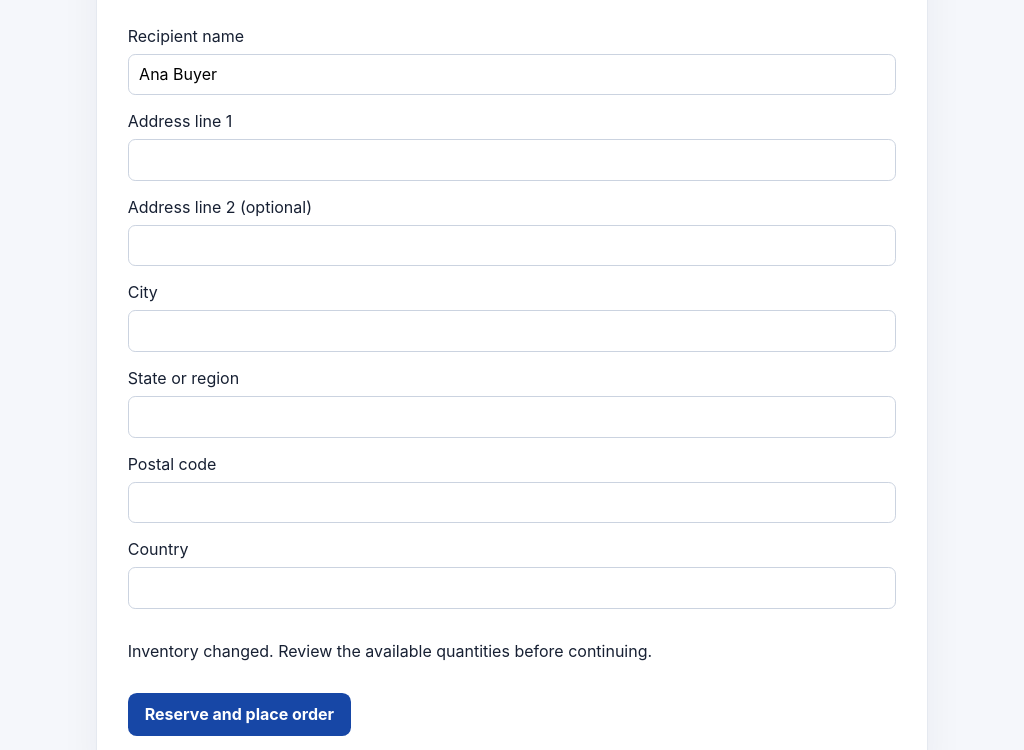
Scenario: checkout › revalidates the cart on entry, prefills the name and validates the address
(page scrolled)
Expected: the text "Inventory changed. Review the available quantities before continuing." is shown, [128,641,652,661]
Expected: the field showing "Ana Buyer" is shown, [128,54,896,95]
Click the button "Reserve and place order" at (239, 714), box [128,693,351,736]
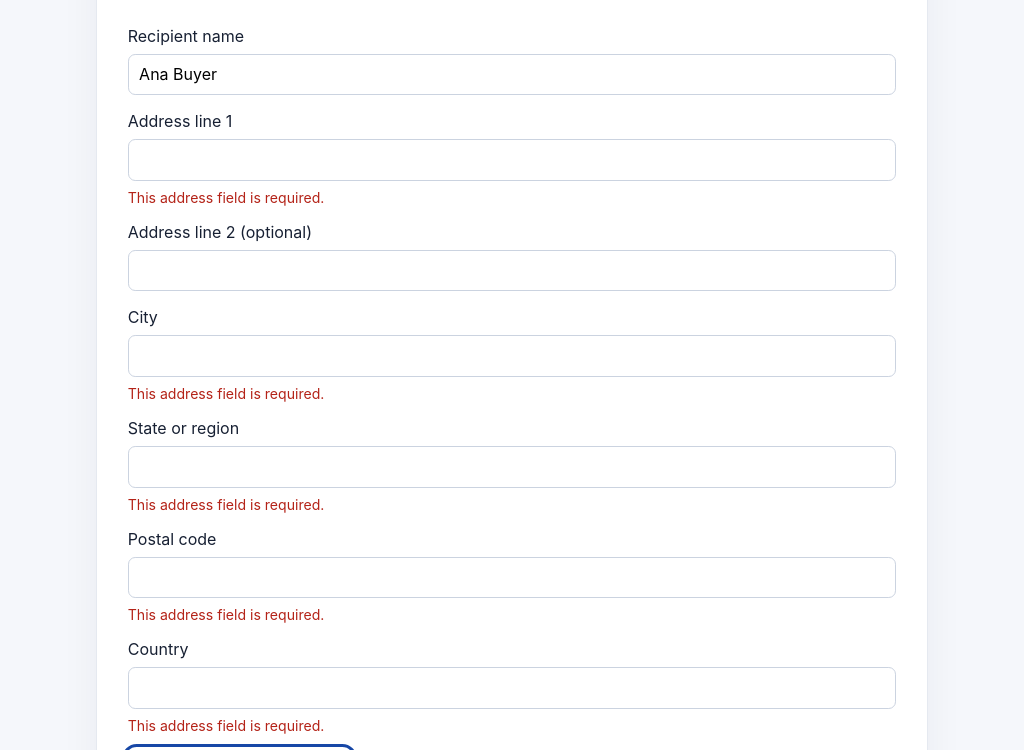
Expected: the text "This address field is required." below "Address line 1" is shown, [128,189,324,206]
